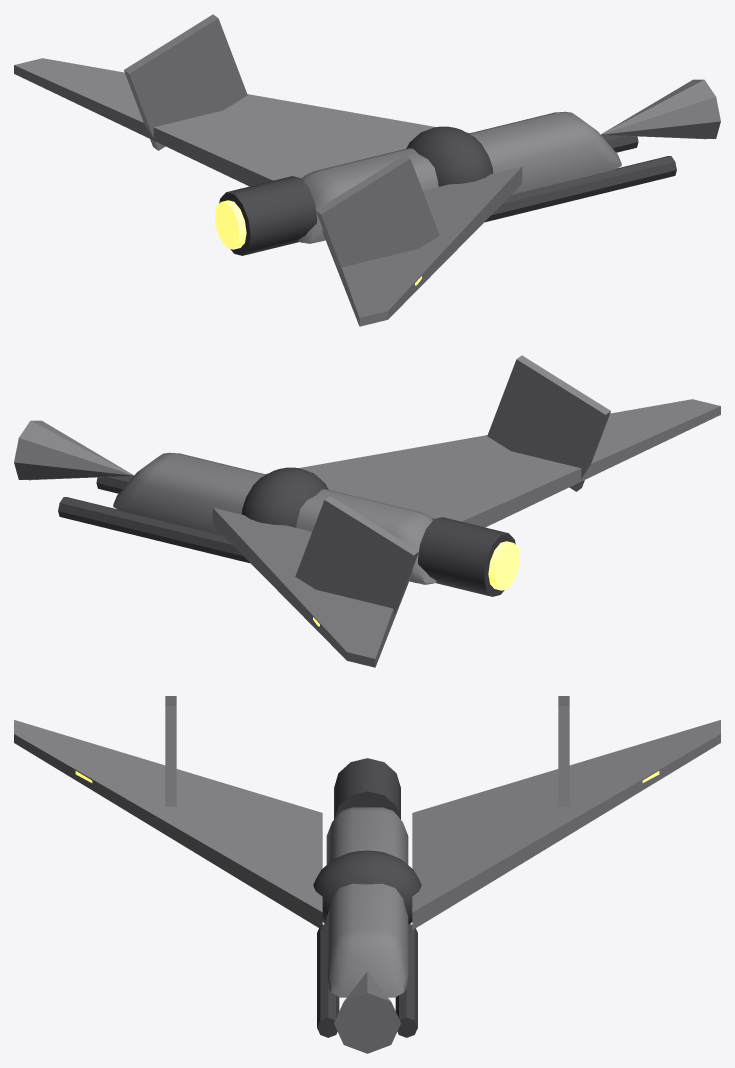
File: rob_fighter.glb
3 views of the same model, one above another, from view 1: azimuth 30°, elevation 25°; view 2: azimuth 150°, elevation 25°; view 3: azimuth 270°, elevation 25° (orthographic). The views are drawn at different scales.
Parts seen in each view (by area): view 1: rob_fighter; view 2: rob_fighter; view 3: rob_fighter.
Boxes of the visible parts, bbox=[...] form: rob_fighter: bbox=[14, 14, 720, 326]; rob_fighter: bbox=[14, 355, 720, 667]; rob_fighter: bbox=[14, 696, 720, 1053].
Bounding box in the file's own units: 1.09 × 0.3188 × 1.26.
